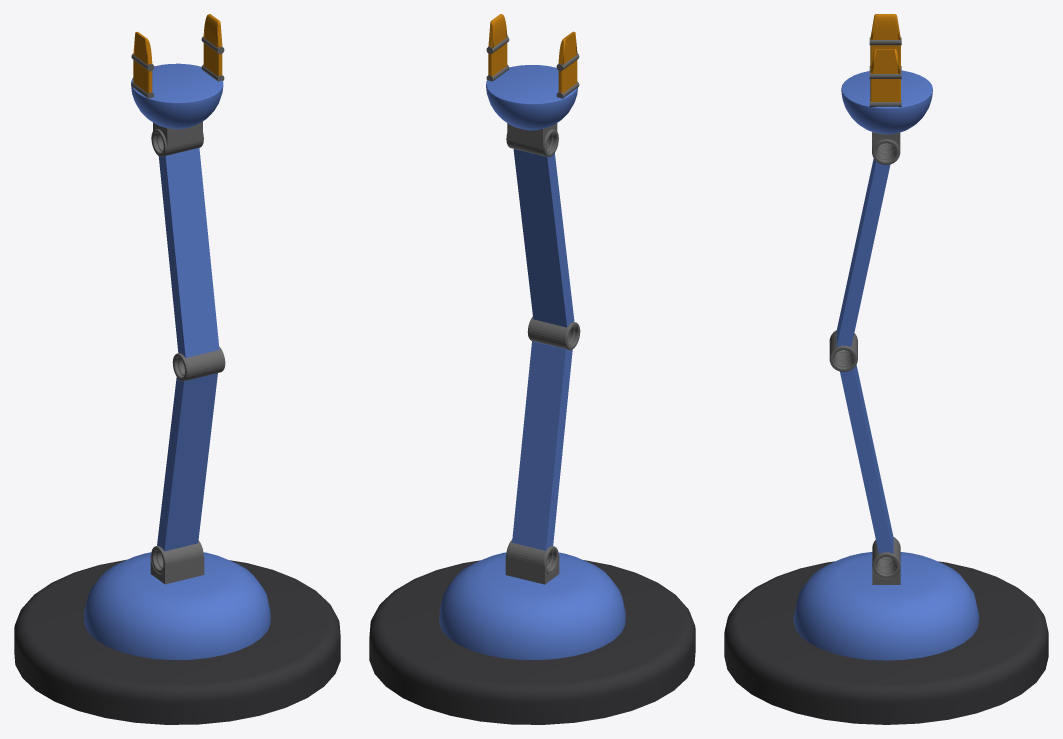
Rendered from manipulator_static.obj.
3 views of the same model, side by side, from view 1: azimuth 30°, elevation 25°; view 2: azimuth 150°, elevation 25°; view 3: azimuth 270°, elevation 25° (orthographic).
Parts seen in each view (by area): view 1: base1.001; view 2: base1.001; view 3: base1.001.
Boxes of the visible parts, x1,y1,x2,y2 form: base1.001: (14,14,340,724); base1.001: (369,14,695,724); base1.001: (724,14,1048,724).
Size of the model in its own units: 2.32 by 4.93 by 2.32.
